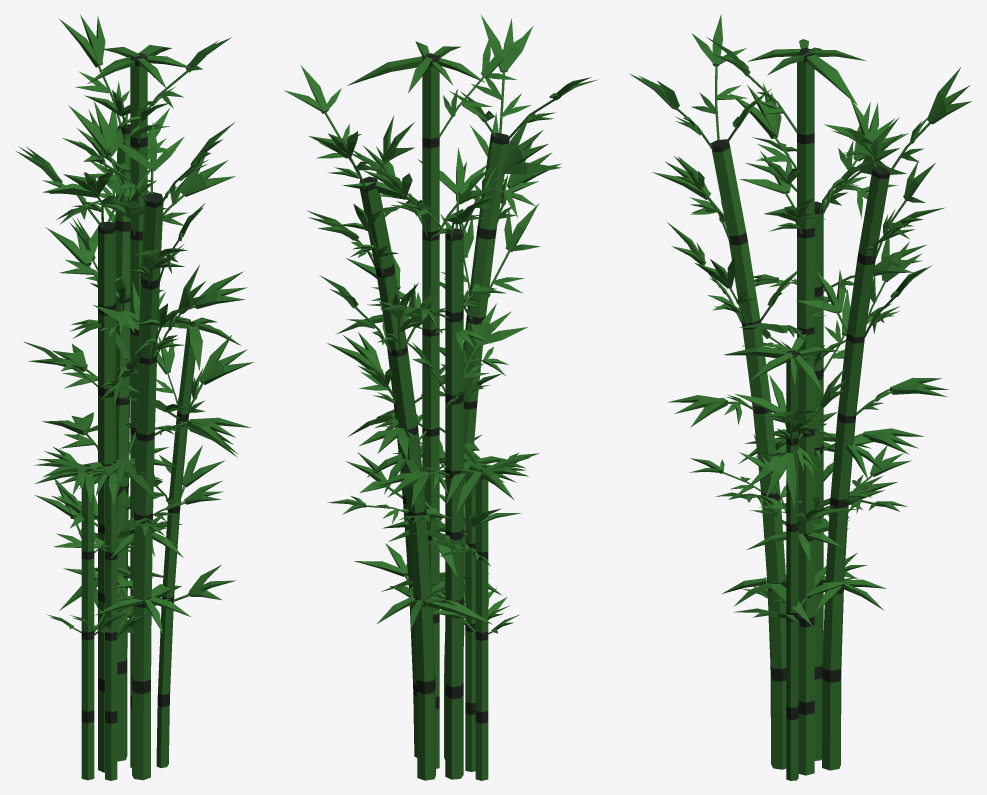
The model's file is bamboo6.FBX.
3 views of the same model, side by side, from view 1: azimuth 30°, elevation 25°; view 2: azimuth 150°, elevation 25°; view 3: azimuth 270°, elevation 25° (orthographic).
Parts seen in each view (by area): view 1: bamboo6; view 2: bamboo6; view 3: bamboo6.
Boxes of the visible parts, bbox=[...] form: bamboo6: bbox=[16, 14, 253, 780]; bamboo6: bbox=[284, 15, 597, 780]; bamboo6: bbox=[629, 14, 971, 780].
Size of the model in its own units: 123 by 155 by 357.
